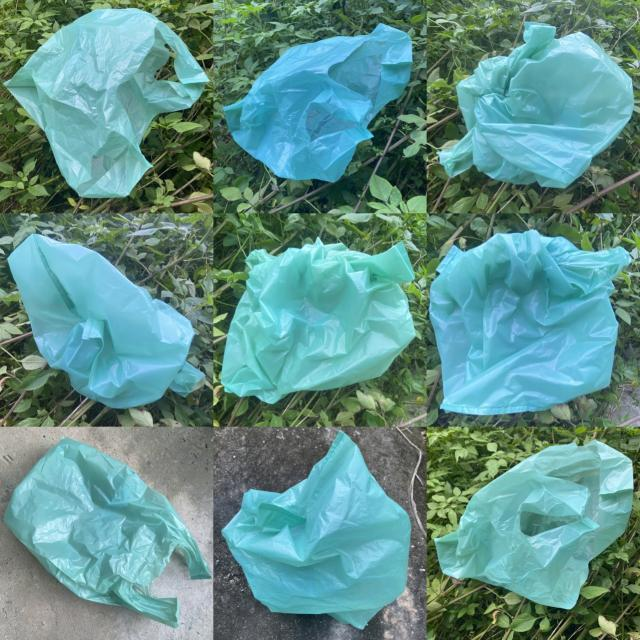Single-layer Plastic: (4, 438, 211, 628), (6, 9, 208, 198), (222, 431, 410, 629), (430, 230, 631, 414), (9, 234, 204, 408), (435, 441, 634, 609), (439, 22, 634, 187), (221, 239, 415, 403), (224, 24, 412, 182)
